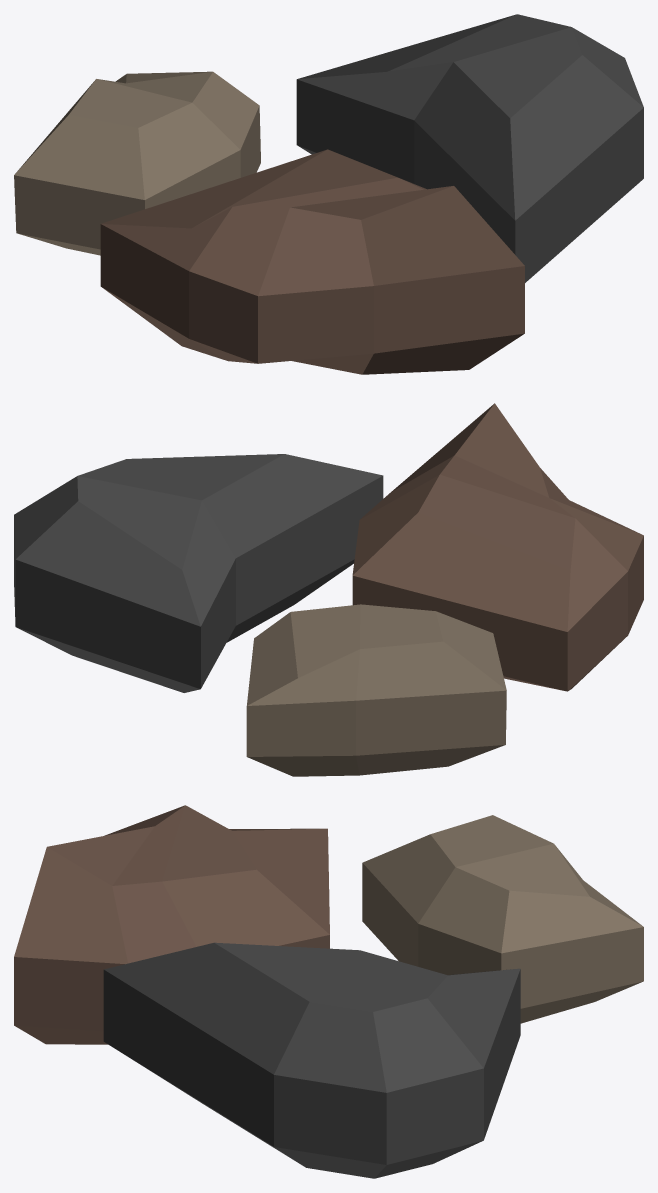
The model's file is Mushroom_Stone_01.fbx.
3 views of the same model, one above another, from view 1: azimuth 30°, elevation 25°; view 2: azimuth 150°, elevation 25°; view 3: azimuth 270°, elevation 25° (orthographic). The views are drawn at different scales.
Parts seen in each view (by area): view 1: Vege_Stone_01; view 2: Vege_Stone_01; view 3: Vege_Stone_01.
Part boxes in pixels (x1,y1,x2,y2): Vege_Stone_01: [14, 14, 643, 374]; Vege_Stone_01: [14, 403, 643, 776]; Vege_Stone_01: [14, 805, 643, 1178].
Size of the model in its own units: 63.7 by 20.31 by 60.63.
